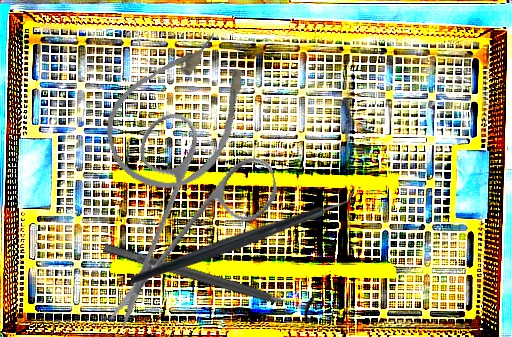Cannula: (85, 12, 279, 213)
Chopper: (131, 182, 355, 287)
Fixation Ring: (99, 230, 321, 326)
Iris Scissors: (66, 92, 301, 331)
